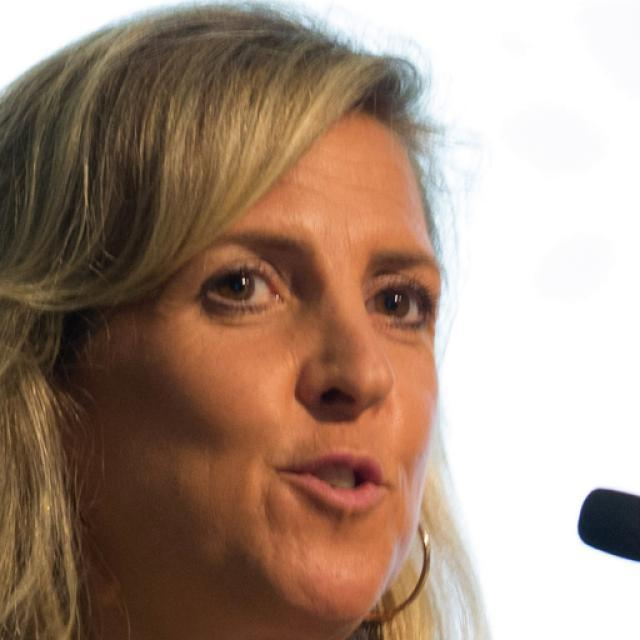surprise: (80, 100, 443, 624)
